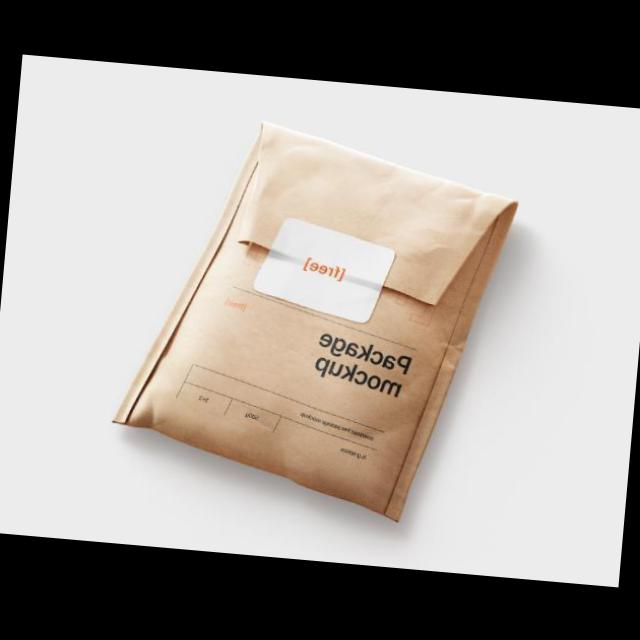mailer: (115, 122, 517, 518)
